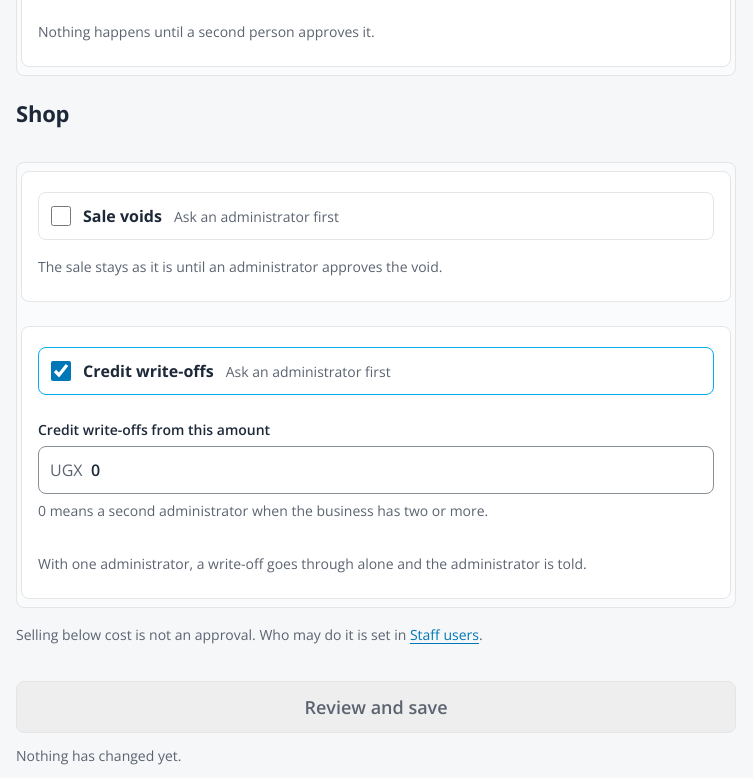
Scenario: the approval rules screen › says the others will be told before a rule is switched off
(page scrolled)
Click the checkbox labelled "Credit write-offs Ask an administrator first" at (61,371), box [51,361,71,381]
(page scrolled)
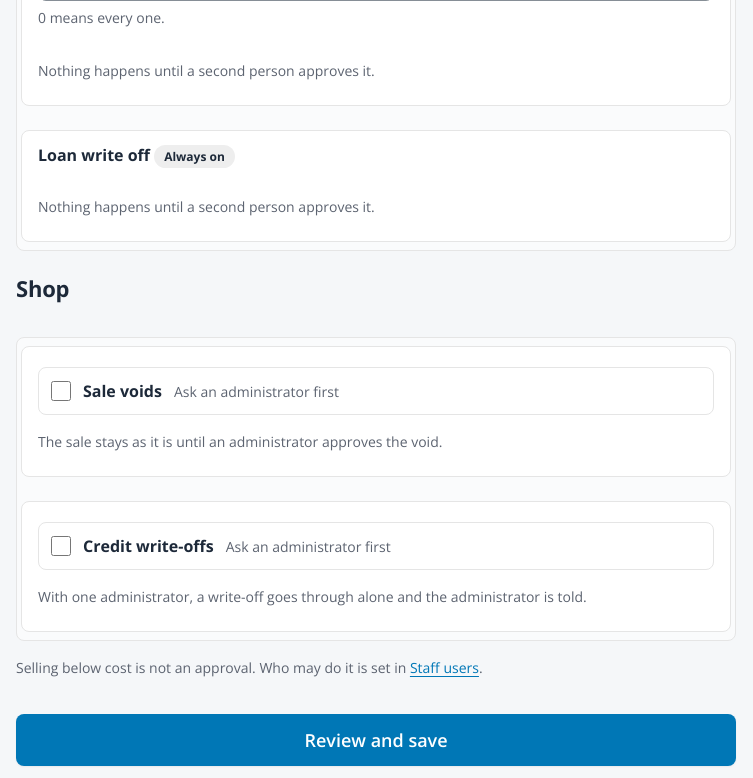
Click the button "Review and save" at (376,740), box [16,714,736,766]
(page scrolled)
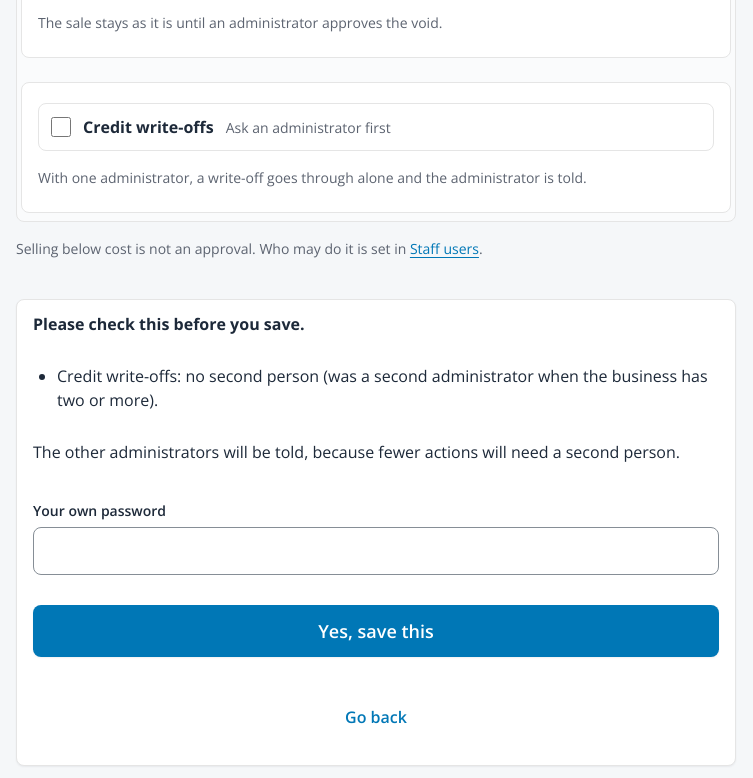
Now the element named "Check before you save" shows "Credit write-offs: no second person (was a second administrator when the business has two or more).", box [57,365,708,411]
Now the element named "Check before you save" shows "The other administrators will be told", box [33,441,680,463]
